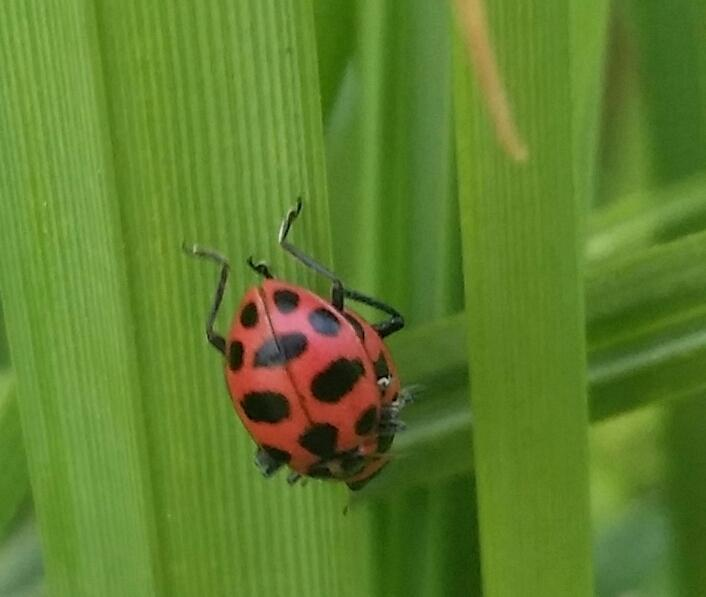ladybug: (178, 189, 388, 488), (236, 251, 419, 499)
